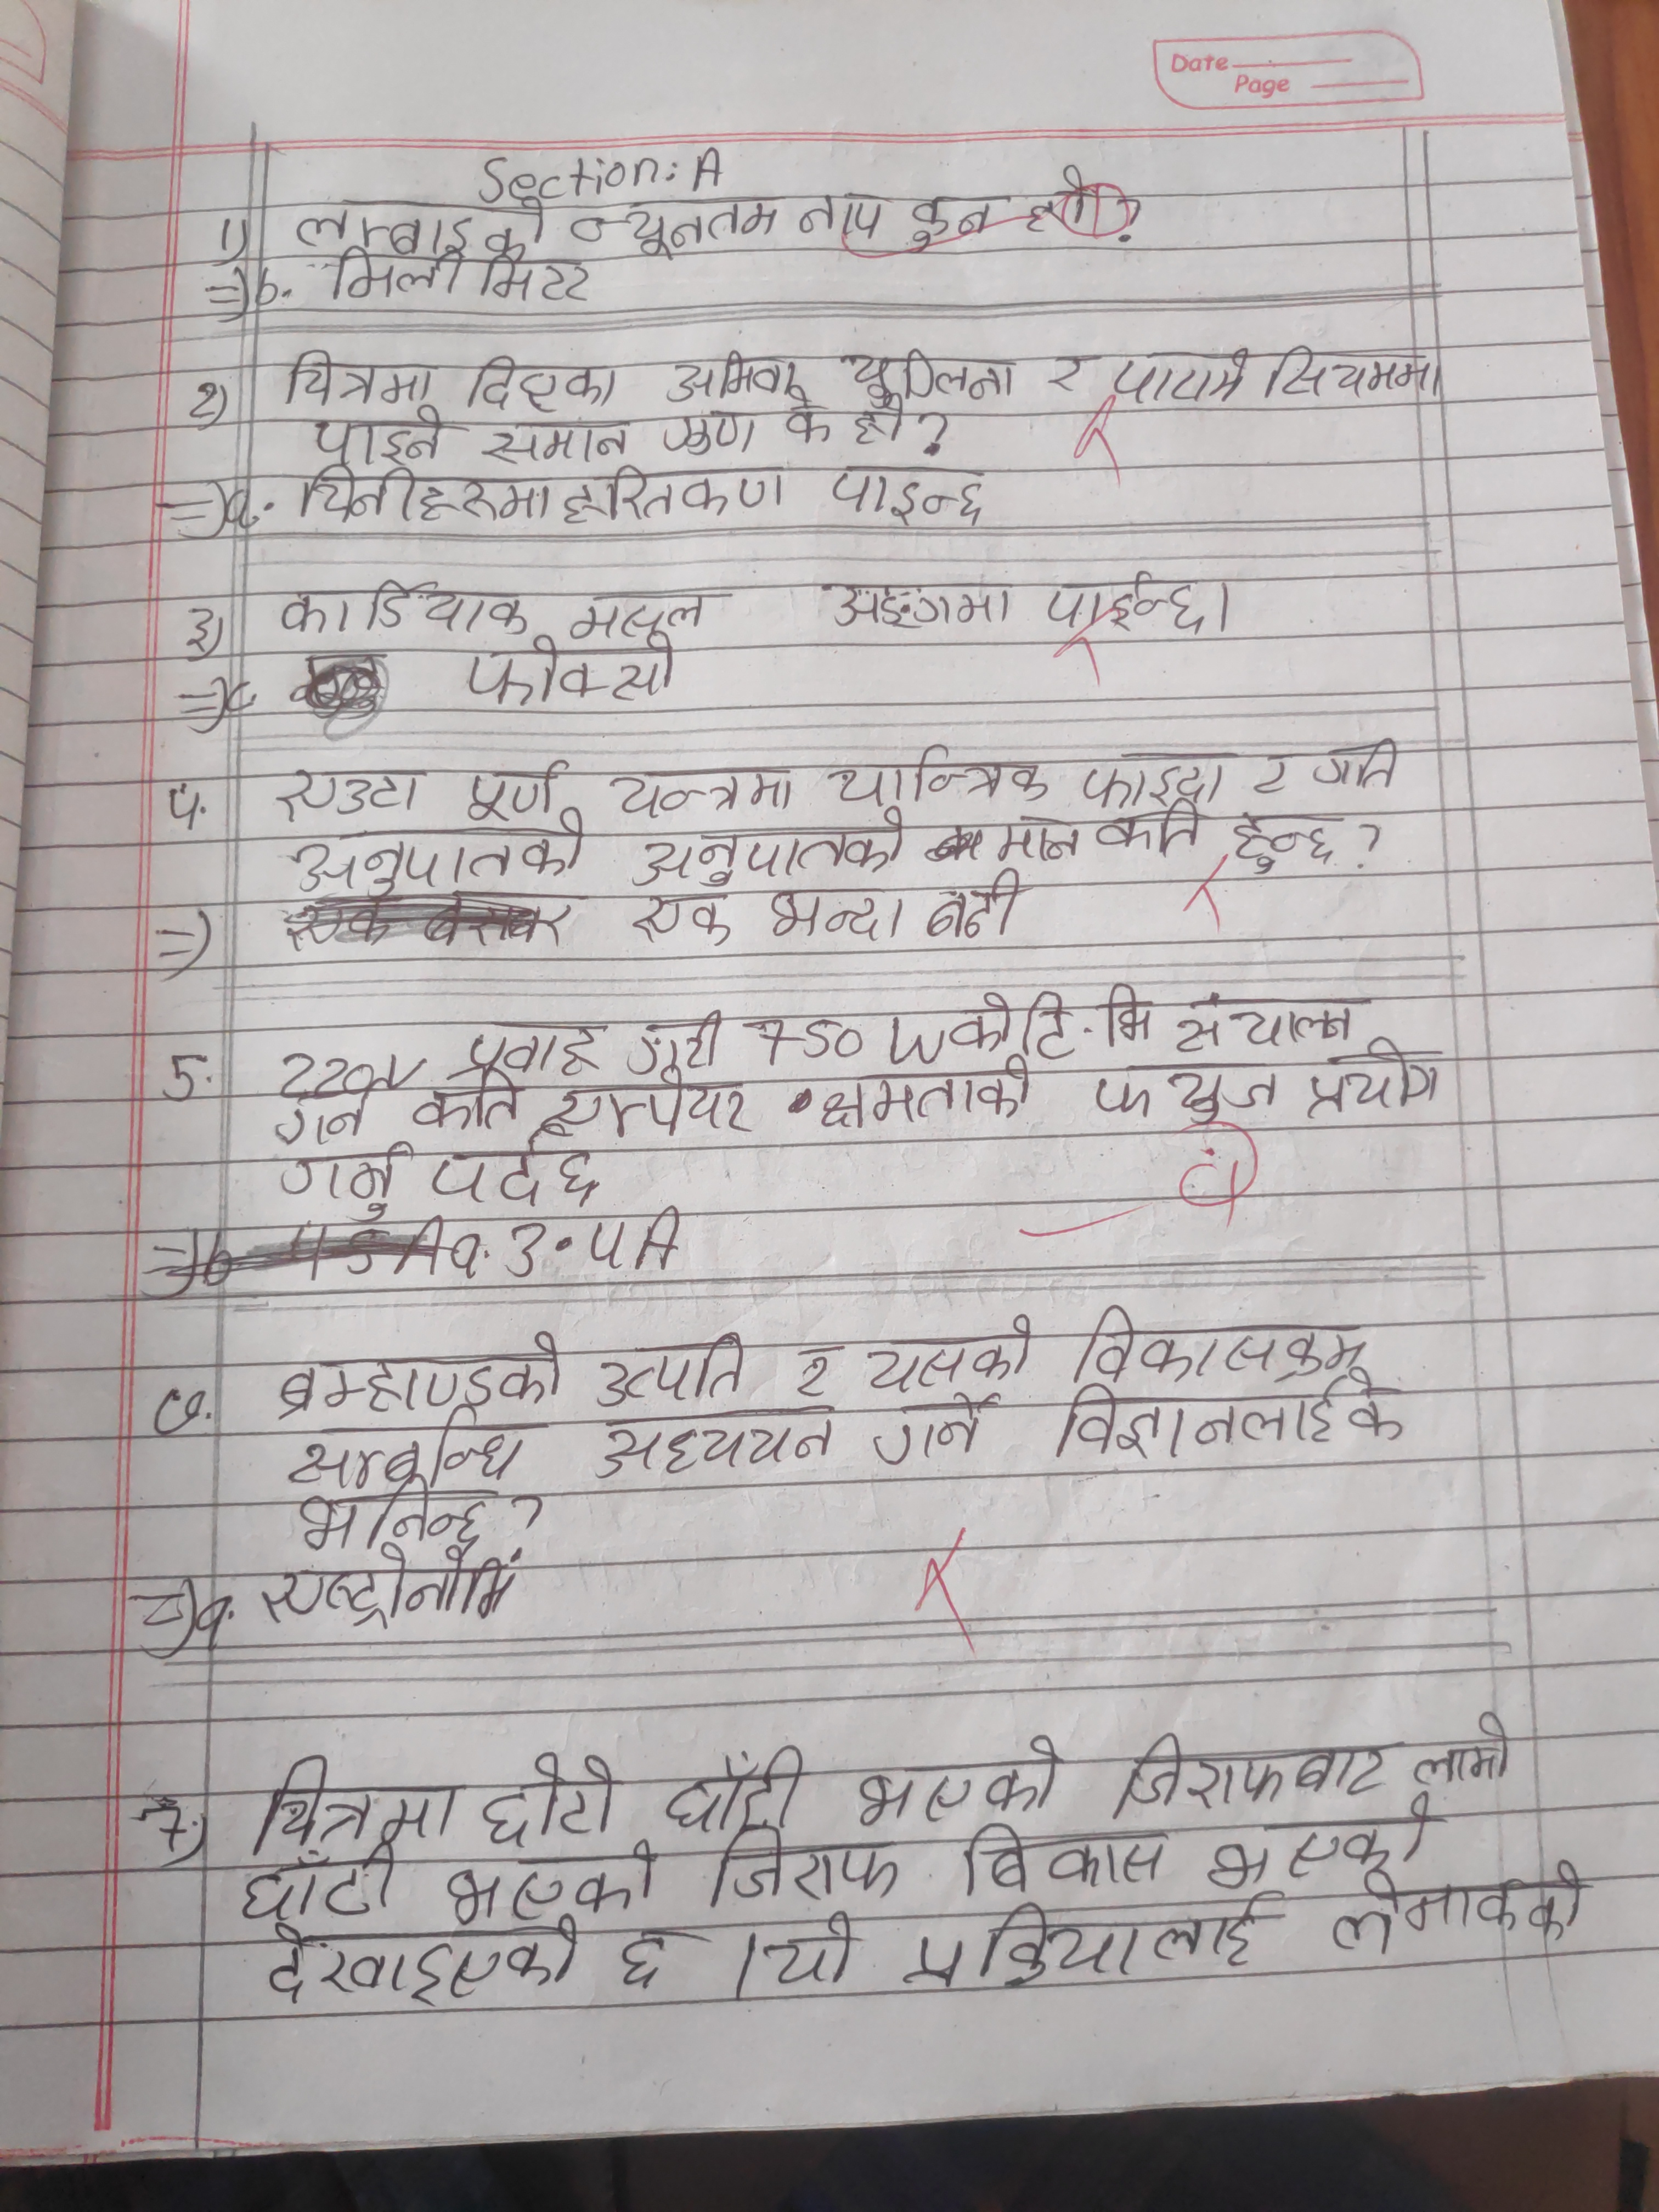text: (897, 1893, 1263, 2005), (293, 463, 796, 526), (261, 1919, 589, 2003), (1324, 1867, 1601, 1959), (1077, 1299, 1375, 1385), (1044, 1381, 1338, 1463), (268, 1329, 566, 1409), (293, 819, 589, 895), (1108, 1726, 1387, 1804), (261, 1548, 518, 1629), (1197, 1808, 1450, 1888), (247, 1750, 462, 1844), (627, 819, 917, 888), (279, 1409, 528, 1489), (432, 1838, 662, 1919), (845, 1738, 1068, 1822), (322, 246, 598, 310), (291, 186, 549, 254), (592, 1414, 835, 1484), (957, 1820, 1176, 1897), (1082, 1043, 1283, 1127), (711, 1822, 904, 1907), (826, 735, 1054, 806), (566, 186, 786, 260), (279, 577, 535, 639), (453, 636, 681, 704), (537, 1073, 760, 1141), (864, 1306, 1037, 1392), (816, 1062, 1039, 1127), (242, 1838, 403, 1926), (1016, 970, 1161, 1062), (477, 1750, 624, 1841), (840, 336, 1025, 408), (591, 1322, 748, 1406), (606, 756, 800, 822), (1162, 989, 1366, 1052), (425, 1134, 598, 1207), (826, 455, 990, 531), (664, 1743, 812, 1827), (261, 1146, 408, 1230), (1263, 340, 1446, 404), (1039, 568, 1222, 632), (1300, 1036, 1446, 1116), (824, 573, 1016, 634), (301, 1493, 490, 1554), (760, 878, 913, 949), (441, 1019, 617, 1080), (868, 1388, 1007, 1465), (924, 869, 1037, 963), (282, 347, 437, 415), (565, 583, 727, 641), (1077, 747, 1234, 806), (464, 355, 620, 413), (471, 413, 636, 467), (1105, 347, 1251, 406), (305, 409, 453, 467), (659, 347, 805, 404), (462, 752, 573, 826), (1225, 806, 1345, 873), (765, 1916, 866, 1993), (277, 770, 429, 820), (1410, 1709, 1507, 1787), (408, 1078, 530, 1139), (650, 401, 770, 462), (629, 892, 744, 953), (270, 1087, 382, 1150), (633, 1000, 727, 1073), (894, 190, 1002, 251), (1091, 805, 1213, 859), (992, 806, 1087, 871), (798, 185, 896, 247), (1019, 165, 1093, 246), (1345, 1372, 1415, 1453), (1310, 737, 1405, 792), (951, 989, 1019, 1061), (612, 1926, 683, 1991), (784, 1345, 852, 1406), (1037, 352, 1101, 406), (854, 392, 918, 444), (784, 390, 836, 449), (1246, 749, 1298, 799)
